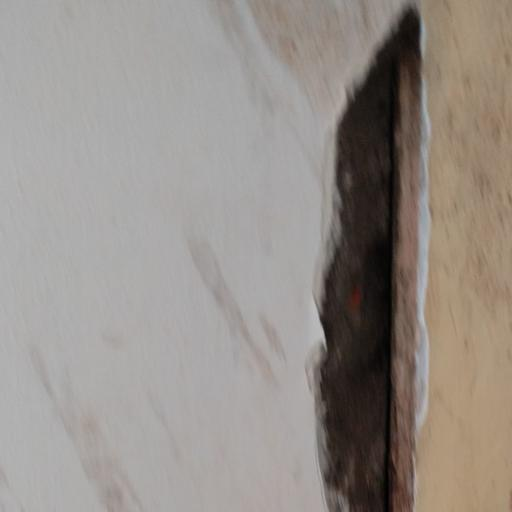spalling: (304, 0, 432, 512)
